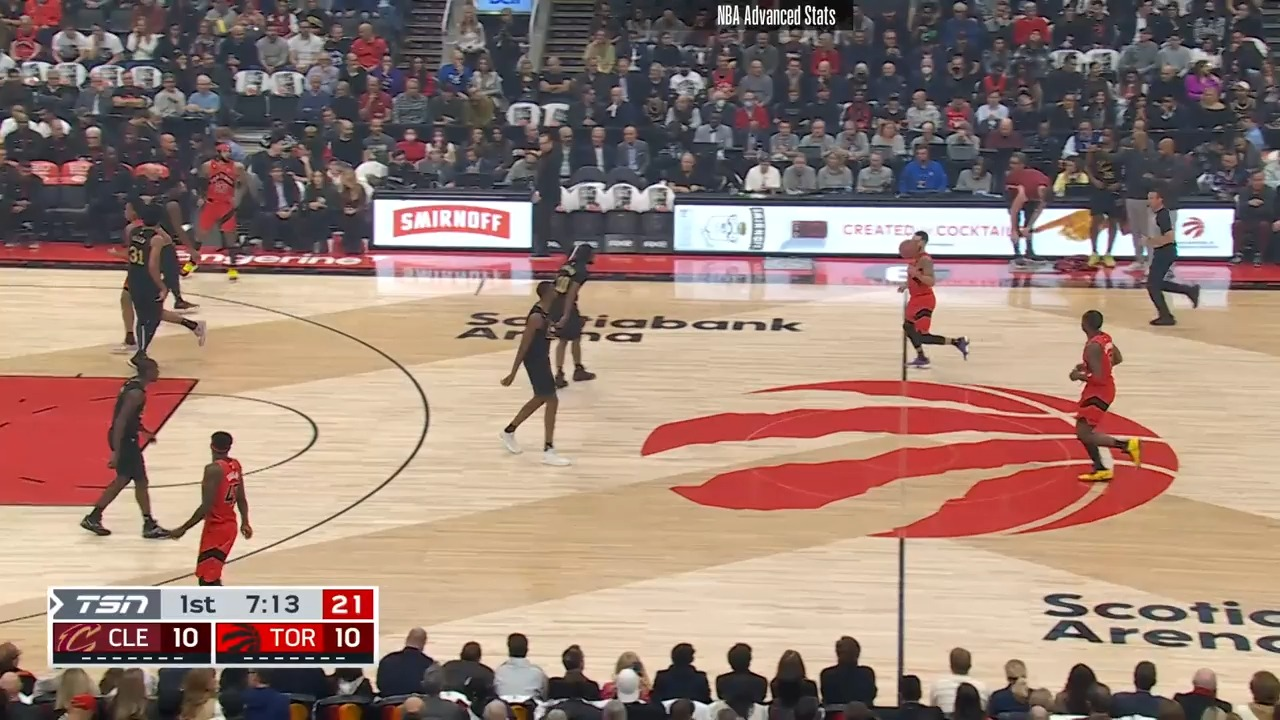player: (87, 356, 183, 544), (166, 427, 254, 585), (500, 280, 571, 465), (127, 200, 209, 360), (1068, 310, 1137, 491), (899, 230, 972, 374), (189, 143, 256, 285), (556, 243, 594, 383)
referee: (1127, 186, 1199, 331)
